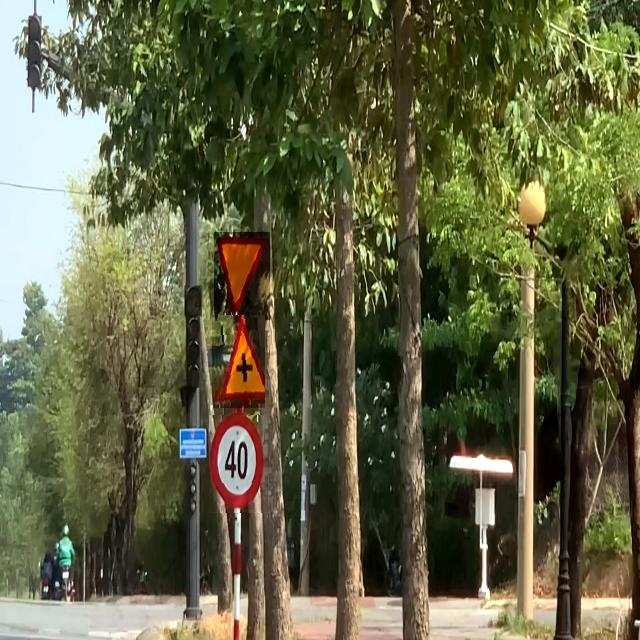bien_cam: (210, 415, 268, 513), (212, 315, 265, 408), (214, 232, 270, 320)
